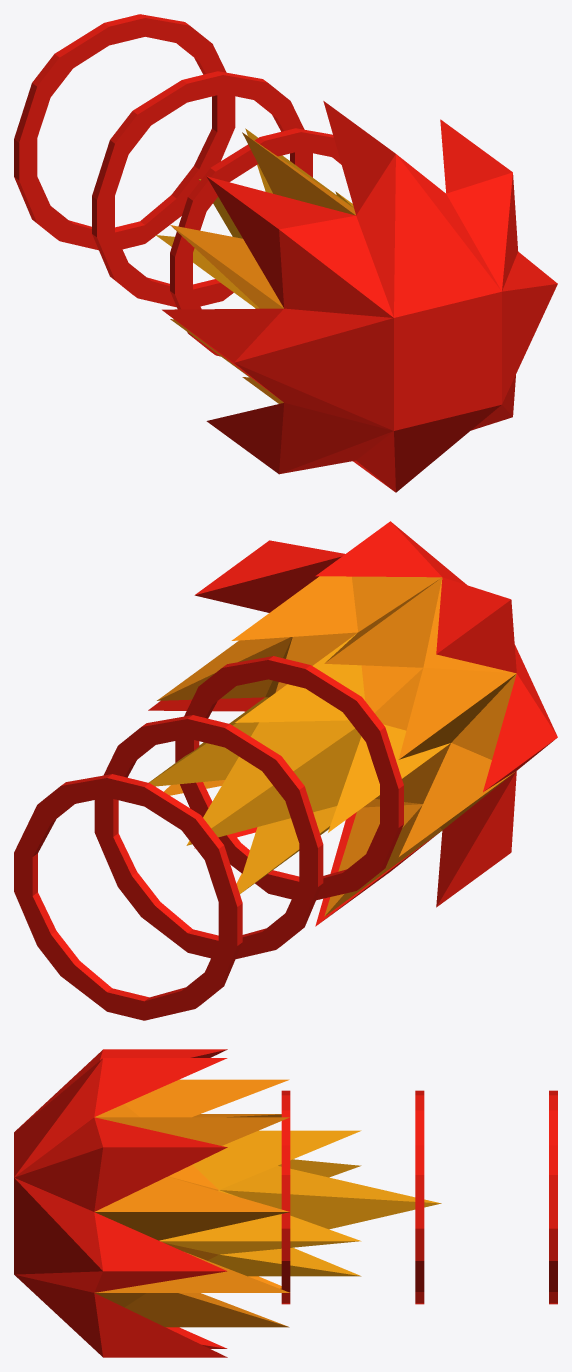
The model's file is model_3115_spotanim.obj.
The picture shows the model from 3 angles, top to bottom: view 1: azimuth 30°, elevation 25°; view 2: azimuth 150°, elevation 25°; view 3: azimuth 270°, elevation 25°; orthographic projection. The views are drawn at different scales.
Parts seen in each view (by area): view 1: 3115; view 2: 3115; view 3: 3115.
Boxes of the visible parts, x1,y1,x2,y2 form: 3115: (14,14,557,492); 3115: (14,521,557,1020); 3115: (14,1049,557,1357).
Size of the model in its own units: 72 by 72 by 122.
